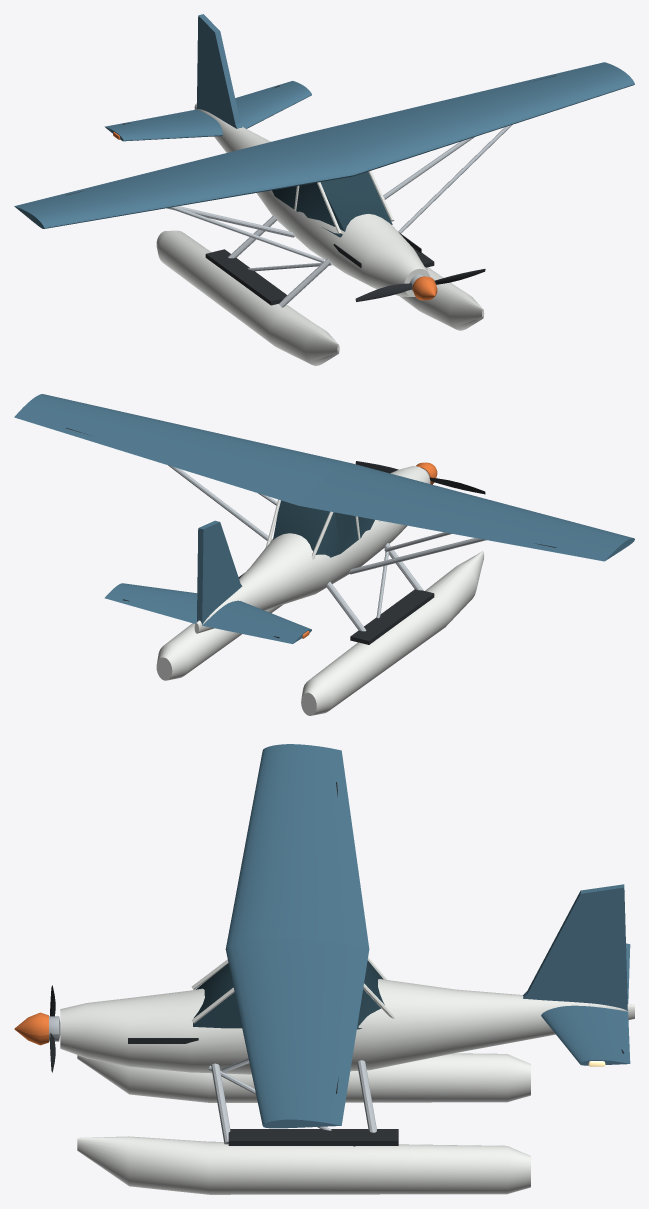
File: transport-collection-hd-floatplane-9c7c2a36__18714.glb
3 views of the same model, one above another, from view 1: azimuth 30°, elevation 25°; view 2: azimuth 150°, elevation 25°; view 3: azimuth 270°, elevation 25° (orthographic). The views are drawn at different scales.
Parts seen in each view (by area): view 1: floatplane, propeller-0/rubber; view 2: floatplane, propeller-0/rubber; view 3: floatplane.
Part boxes in pixels (x1=…): floatplane: x1=14, y1=14, x2=634, y2=365; propeller-0/rubber: x1=355, y1=269, x2=485, y2=301; floatplane: x1=14, y1=394, x2=634, y2=715; propeller-0/rubber: x1=355, y1=461, x2=485, y2=494; floatplane: x1=14, y1=744, x2=634, y2=1194.
Bounding box in the file's own units: 9.4 × 3.04 × 6.57.
